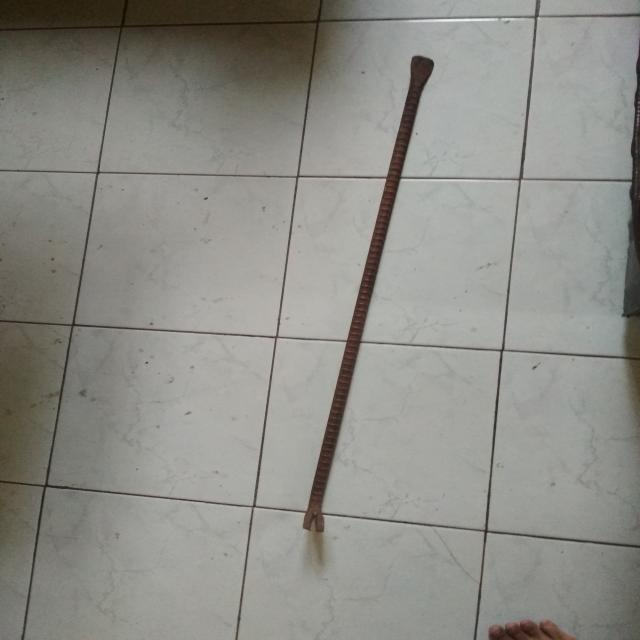Linggis: (298, 58, 440, 530)
